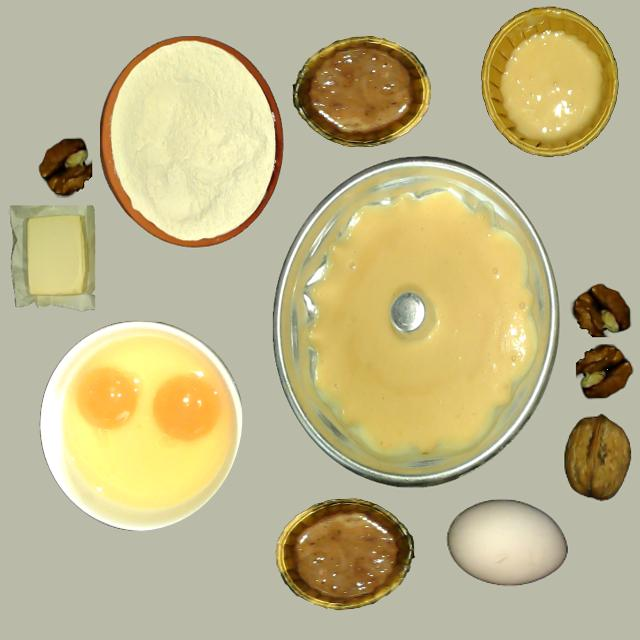Egg: (152, 374, 220, 442), (74, 366, 140, 432)
Flour: (108, 41, 274, 243)
Walnut: (560, 414, 634, 507)
